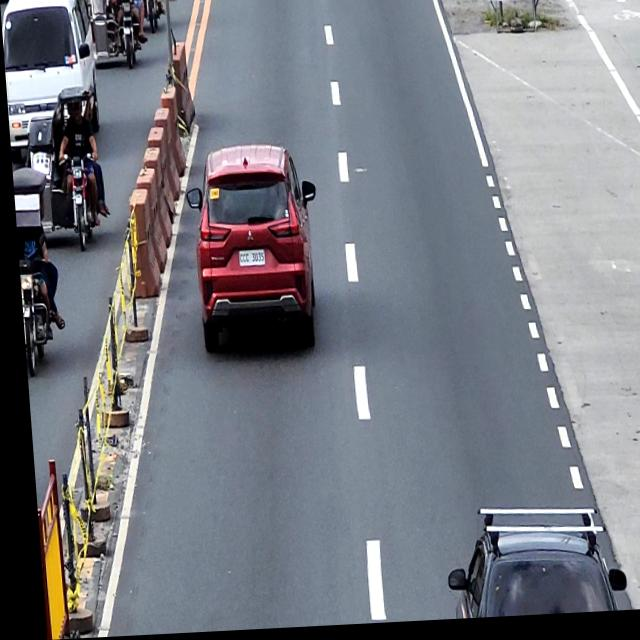Car: (180, 143, 322, 356), (434, 506, 623, 623), (0, 0, 101, 169)
License-Plate: (233, 249, 262, 270)
Tricycle: (19, 89, 104, 259), (10, 164, 57, 379), (88, 0, 142, 73)
